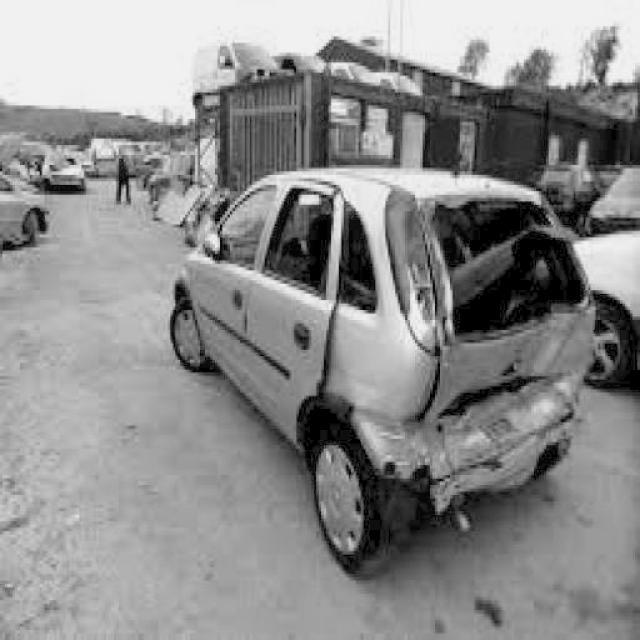car damage: (347, 193, 596, 522)
